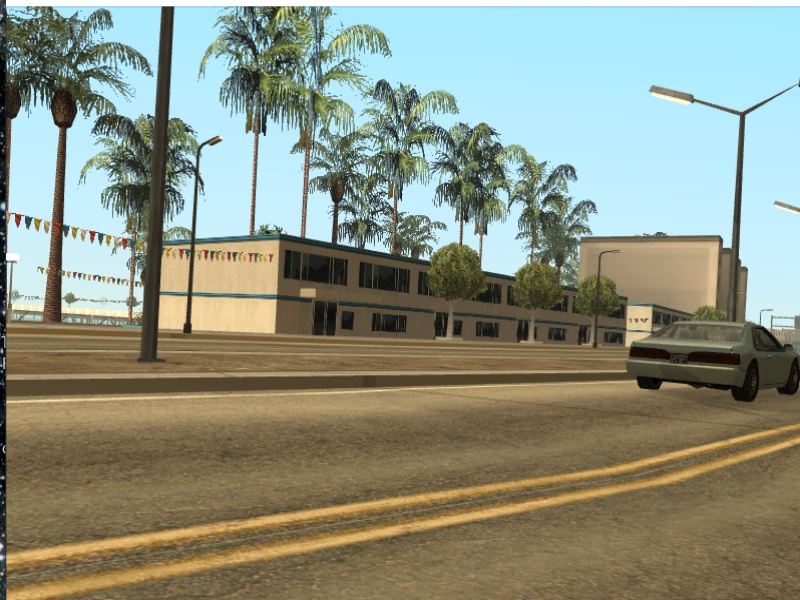pole: (136, 12, 166, 369), (728, 111, 747, 314), (183, 144, 199, 333), (594, 252, 602, 348)
tree: (40, 127, 73, 326), (436, 284, 461, 342), (523, 298, 536, 346)
vehicle: (622, 316, 800, 402)
